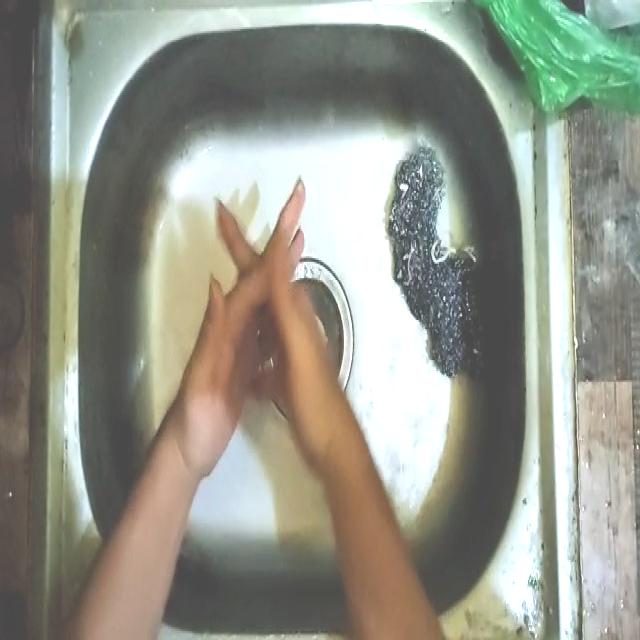step_3: (187, 164, 333, 471)
